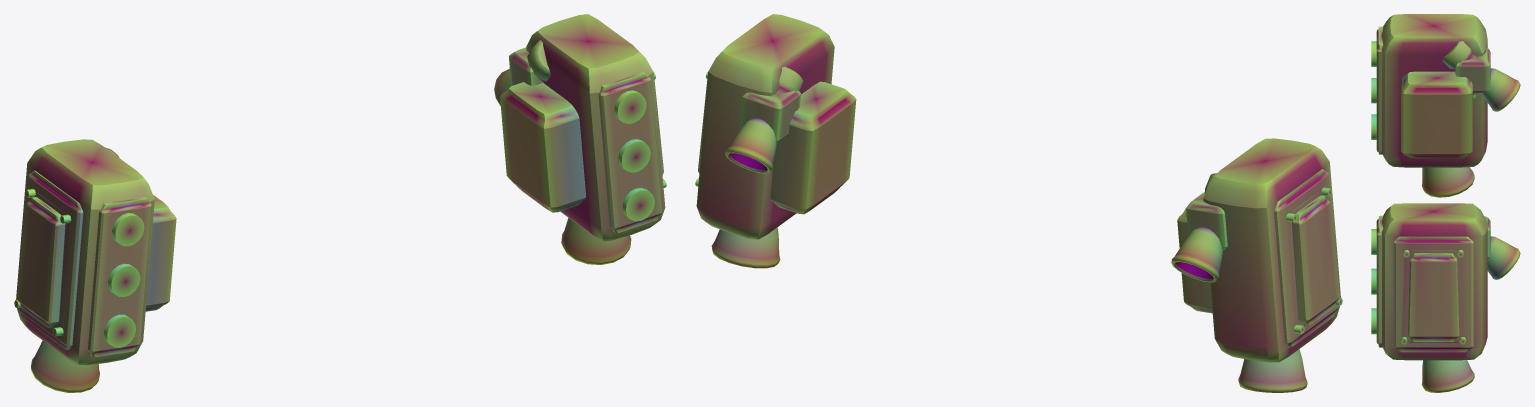
The model's file is llm_gen_leg_thrusters_032_e2d6bc.glb.
3 renders of one model, left to right at view 1: azimuth 30°, elevation 25°; view 2: azimuth 150°, elevation 25°; view 3: azimuth 270°, elevation 25°, orthographic. The views are drawn at different scales.
Parts seen in each view (by area): view 1: leg_missile_hull_0_wing_white_r, leg_missile_hull_0_wing_white_l, adapter_calf_clamp_r, leg_pod_armor_cover_6_fuselage_l, adapter_sub_missile_bezel_dark_1_adapter_dark_l, adapter_sub_missile_bezel_dark_1_adapter_dark_r, adapter_sub_side_frame_dark_5_adapter_dark_l, adapter_calf_clamp_l, leg_ankle_bell_7_vernier_bell_vernier_l, leg_ankle_bell_7_vernier_bell_vernier_r, leg_cell_top_2_gold_r, leg_cell_mid_3_gold_r (+6 smaller); view 2: leg_missile_hull_0_wing_white_l, leg_missile_hull_0_wing_white_r, adapter_calf_clamp_r, leg_pod_armor_cover_6_fuselage_l, adapter_sub_side_frame_dark_5_adapter_dark_l, leg_ankle_bell_7_vernier_bell_vernier_l, addon_leg_bell_9_vernier_bell_vernier_l, addon_leg_bell_9_vernier_bell_vernier_r, leg_ankle_bell_7_vernier_bell_vernier_r, adapter_leg_mount_pod_dark_8_adapter_dark_r, adapter_leg_mount_pod_dark_8_adapter_dark_l, adapter_calf_clamp_l; view 3: leg_missile_hull_0_wing_white_l, leg_missile_hull_0_wing_white_r, adapter_calf_clamp_l, leg_pod_armor_cover_6_fuselage_r, adapter_sub_side_frame_dark_5_adapter_dark_r, leg_ankle_bell_7_vernier_bell_vernier_r, leg_ankle_bell_7_vernier_bell_vernier_l, addon_leg_bell_9_vernier_bell_vernier_l, adapter_leg_mount_pod_dark_8_adapter_dark_l, addon_leg_bell_9_vernier_bell_vernier_r, adapter_sub_missile_bezel_dark_1_adapter_dark_r, adapter_sub_missile_bezel_dark_1_adapter_dark_l (+8 smaller).
Part boxes in pixels (left/top/right/bottom): leg_missile_hull_0_wing_white_r: left=526, top=14, right=665, bottom=241; leg_missile_hull_0_wing_white_l: left=16, top=139, right=154, bottom=365; adapter_calf_clamp_r: left=500, top=82, right=586, bottom=212; leg_pod_armor_cover_6_fuselage_l: left=14, top=188, right=71, bottom=336; adapter_sub_missile_bezel_dark_1_adapter_dark_l: left=88, top=197, right=151, bottom=356; adapter_sub_missile_bezel_dark_1_adapter_dark_r: left=598, top=71, right=662, bottom=233; adapter_sub_side_frame_dark_5_adapter_dark_l: left=17, top=170, right=83, bottom=349; adapter_calf_clamp_l: left=145, top=195, right=176, bottom=311; leg_ankle_bell_7_vernier_bell_vernier_l: left=31, top=340, right=99, bottom=392; leg_ankle_bell_7_vernier_bell_vernier_r: left=561, top=218, right=631, bottom=264; leg_cell_top_2_gold_r: left=614, top=90, right=646, bottom=123; leg_cell_mid_3_gold_r: left=618, top=139, right=650, bottom=172; leg_missile_hull_0_wing_white_l: left=1203, top=138, right=1340, bottom=362; leg_missile_hull_0_wing_white_r: left=696, top=14, right=834, bottom=239; adapter_calf_clamp_r: left=770, top=81, right=856, bottom=214; leg_pod_armor_cover_6_fuselage_l: left=1286, top=187, right=1342, bottom=333; adapter_sub_side_frame_dark_5_adapter_dark_l: left=1274, top=169, right=1339, bottom=347; leg_ankle_bell_7_vernier_bell_vernier_l: left=1238, top=349, right=1307, bottom=392; addon_leg_bell_9_vernier_bell_vernier_l: left=1171, top=227, right=1222, bottom=282; addon_leg_bell_9_vernier_bell_vernier_r: left=725, top=118, right=776, bottom=173; leg_ankle_bell_7_vernier_bell_vernier_r: left=711, top=227, right=780, bottom=268; adapter_leg_mount_pod_dark_8_adapter_dark_r: left=740, top=90, right=800, bottom=142; adapter_leg_mount_pod_dark_8_adapter_dark_l: left=1186, top=192, right=1227, bottom=250; adapter_calf_clamp_l: left=1177, top=207, right=1212, bottom=313; leg_missile_hull_0_wing_white_l: left=1381, top=14, right=1487, bottom=167; leg_missile_hull_0_wing_white_r: left=1381, top=203, right=1487, bottom=360; adapter_calf_clamp_l: left=1401, top=71, right=1472, bottom=158; leg_pod_armor_cover_6_fuselage_r: left=1401, top=250, right=1466, bottom=344; adapter_sub_side_frame_dark_5_adapter_dark_r: left=1393, top=236, right=1473, bottom=352; leg_ankle_bell_7_vernier_bell_vernier_r: left=1421, top=360, right=1474, bottom=392; leg_ankle_bell_7_vernier_bell_vernier_l: left=1421, top=167, right=1474, bottom=197; addon_leg_bell_9_vernier_bell_vernier_l: left=1481, top=68, right=1520, bottom=111; adapter_leg_mount_pod_dark_8_adapter_dark_l: left=1455, top=48, right=1490, bottom=92; addon_leg_bell_9_vernier_bell_vernier_r: left=1487, top=236, right=1520, bottom=279; adapter_sub_missile_bezel_dark_1_adapter_dark_r: left=1376, top=215, right=1383, bottom=347; adapter_sub_missile_bezel_dark_1_adapter_dark_l: left=1376, top=26, right=1383, bottom=154.
Size of the model in its own units: 83.64 by 29.05 by 22.86.
